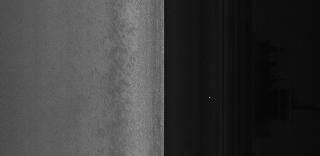silk spot: (104, 56, 142, 102)
